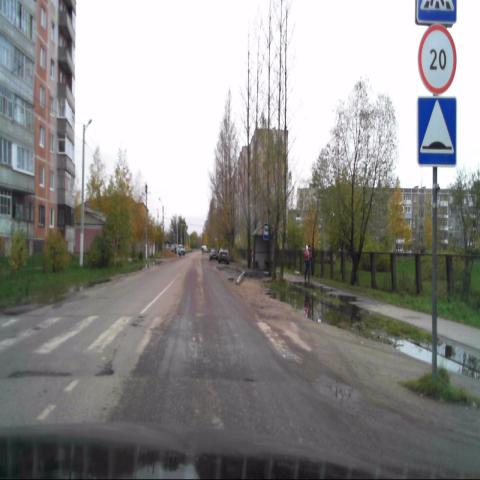3_24: (418, 22, 456, 95)
5_20: (417, 94, 459, 169)
